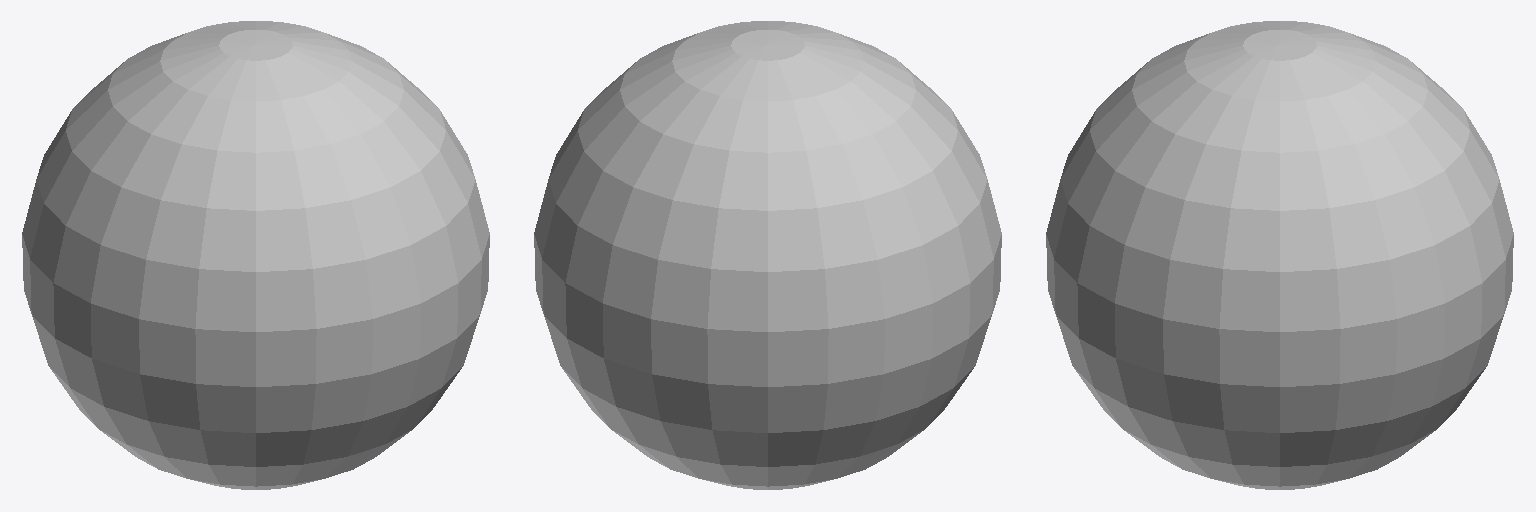
File: Ball_red_01.obj
3 renders of one model, left to right at view 1: azimuth 30°, elevation 25°; view 2: azimuth 150°, elevation 25°; view 3: azimuth 270°, elevation 25°, orthographic.
Visible parts, largest first — view 1: Mesh1 Ball_red Model; view 2: Mesh1 Ball_red Model; view 3: Mesh1 Ball_red Model.
Part boxes in pixels (x1,y1,x2,y2): Mesh1 Ball_red Model: (22, 21, 489, 489); Mesh1 Ball_red Model: (534, 21, 1001, 489); Mesh1 Ball_red Model: (1046, 21, 1513, 489).
Bounding box in the file's own units: 0.2099 × 0.2096 × 0.2099.